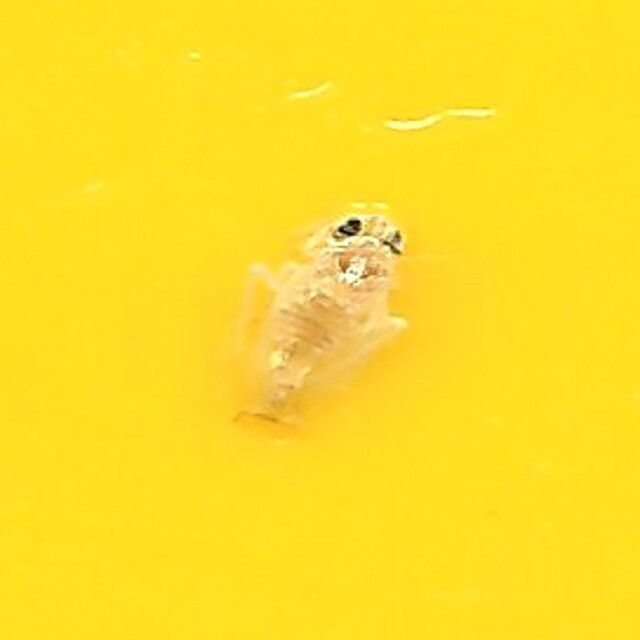Hemiptera: (235, 195, 405, 445)
